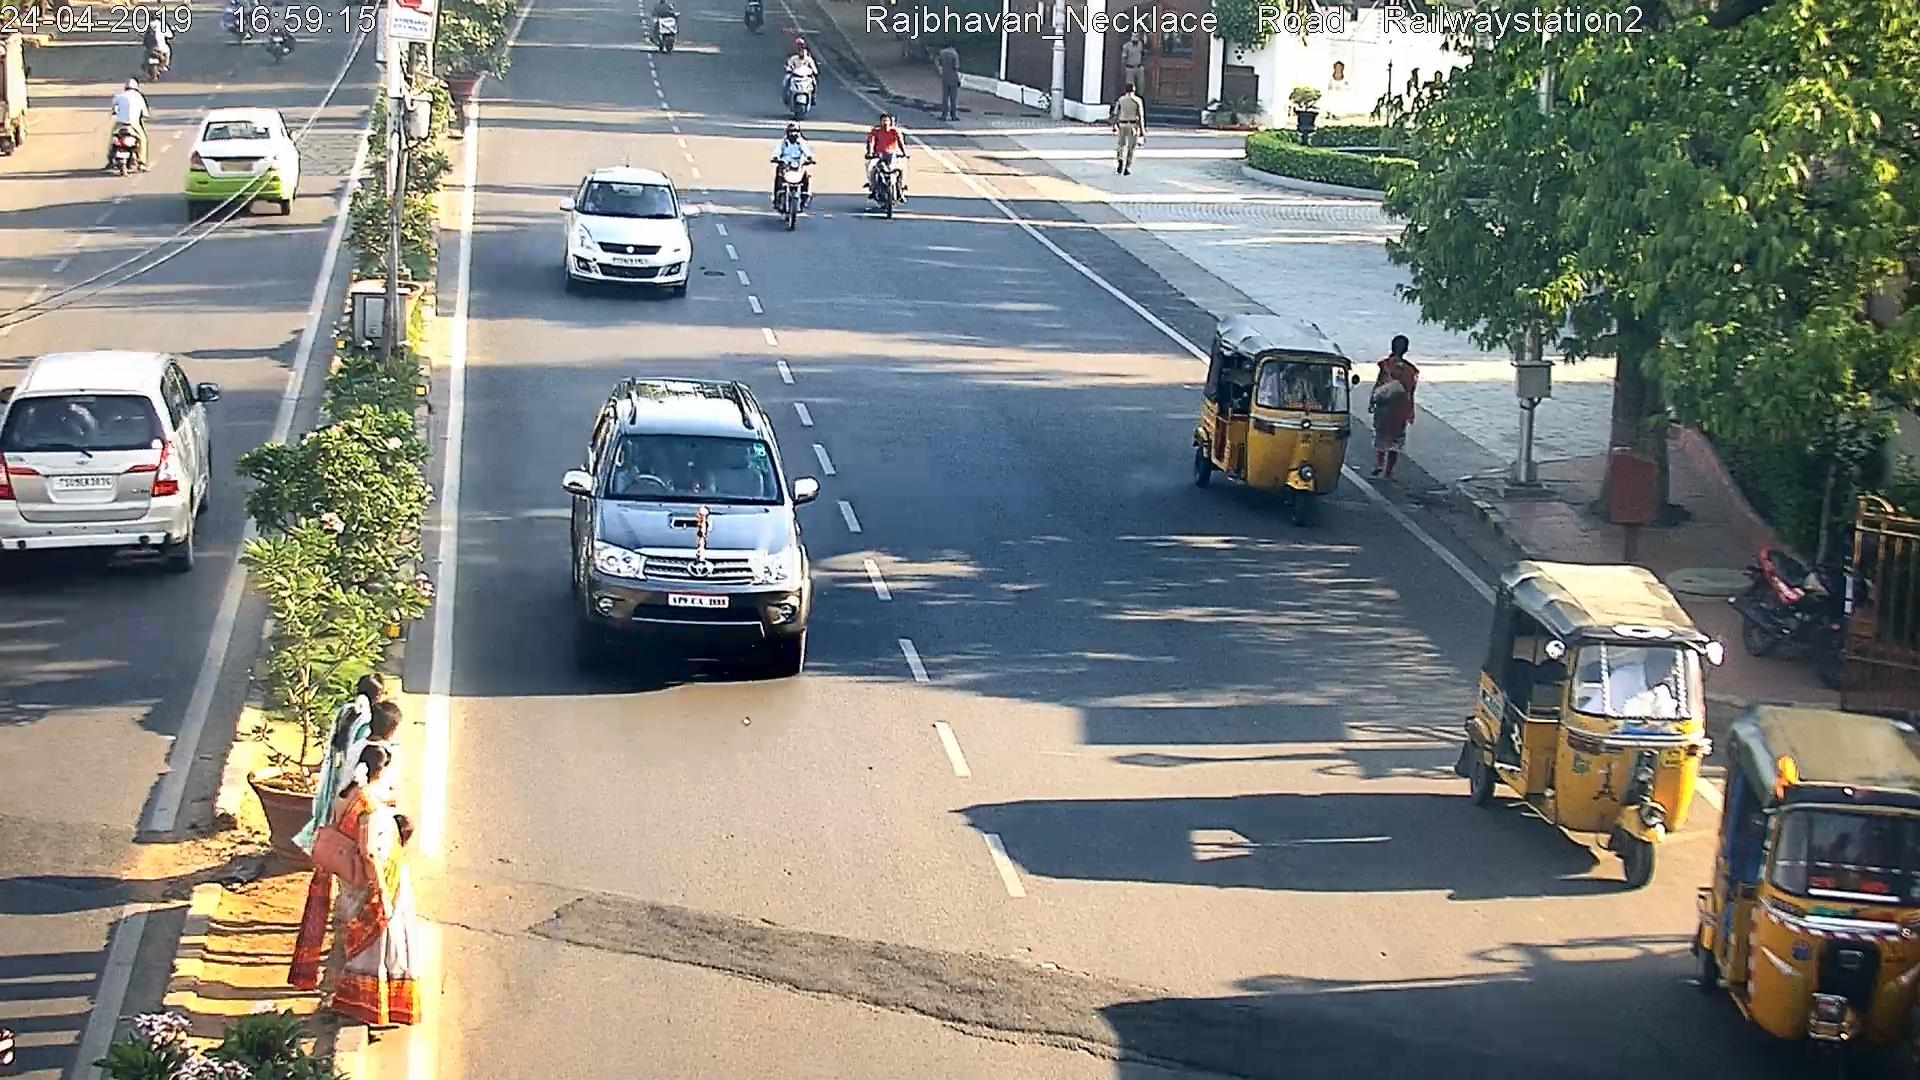2Wheeler: (771, 117, 818, 233), (102, 75, 152, 181), (865, 108, 910, 223), (785, 37, 823, 115), (647, 1, 684, 55)
